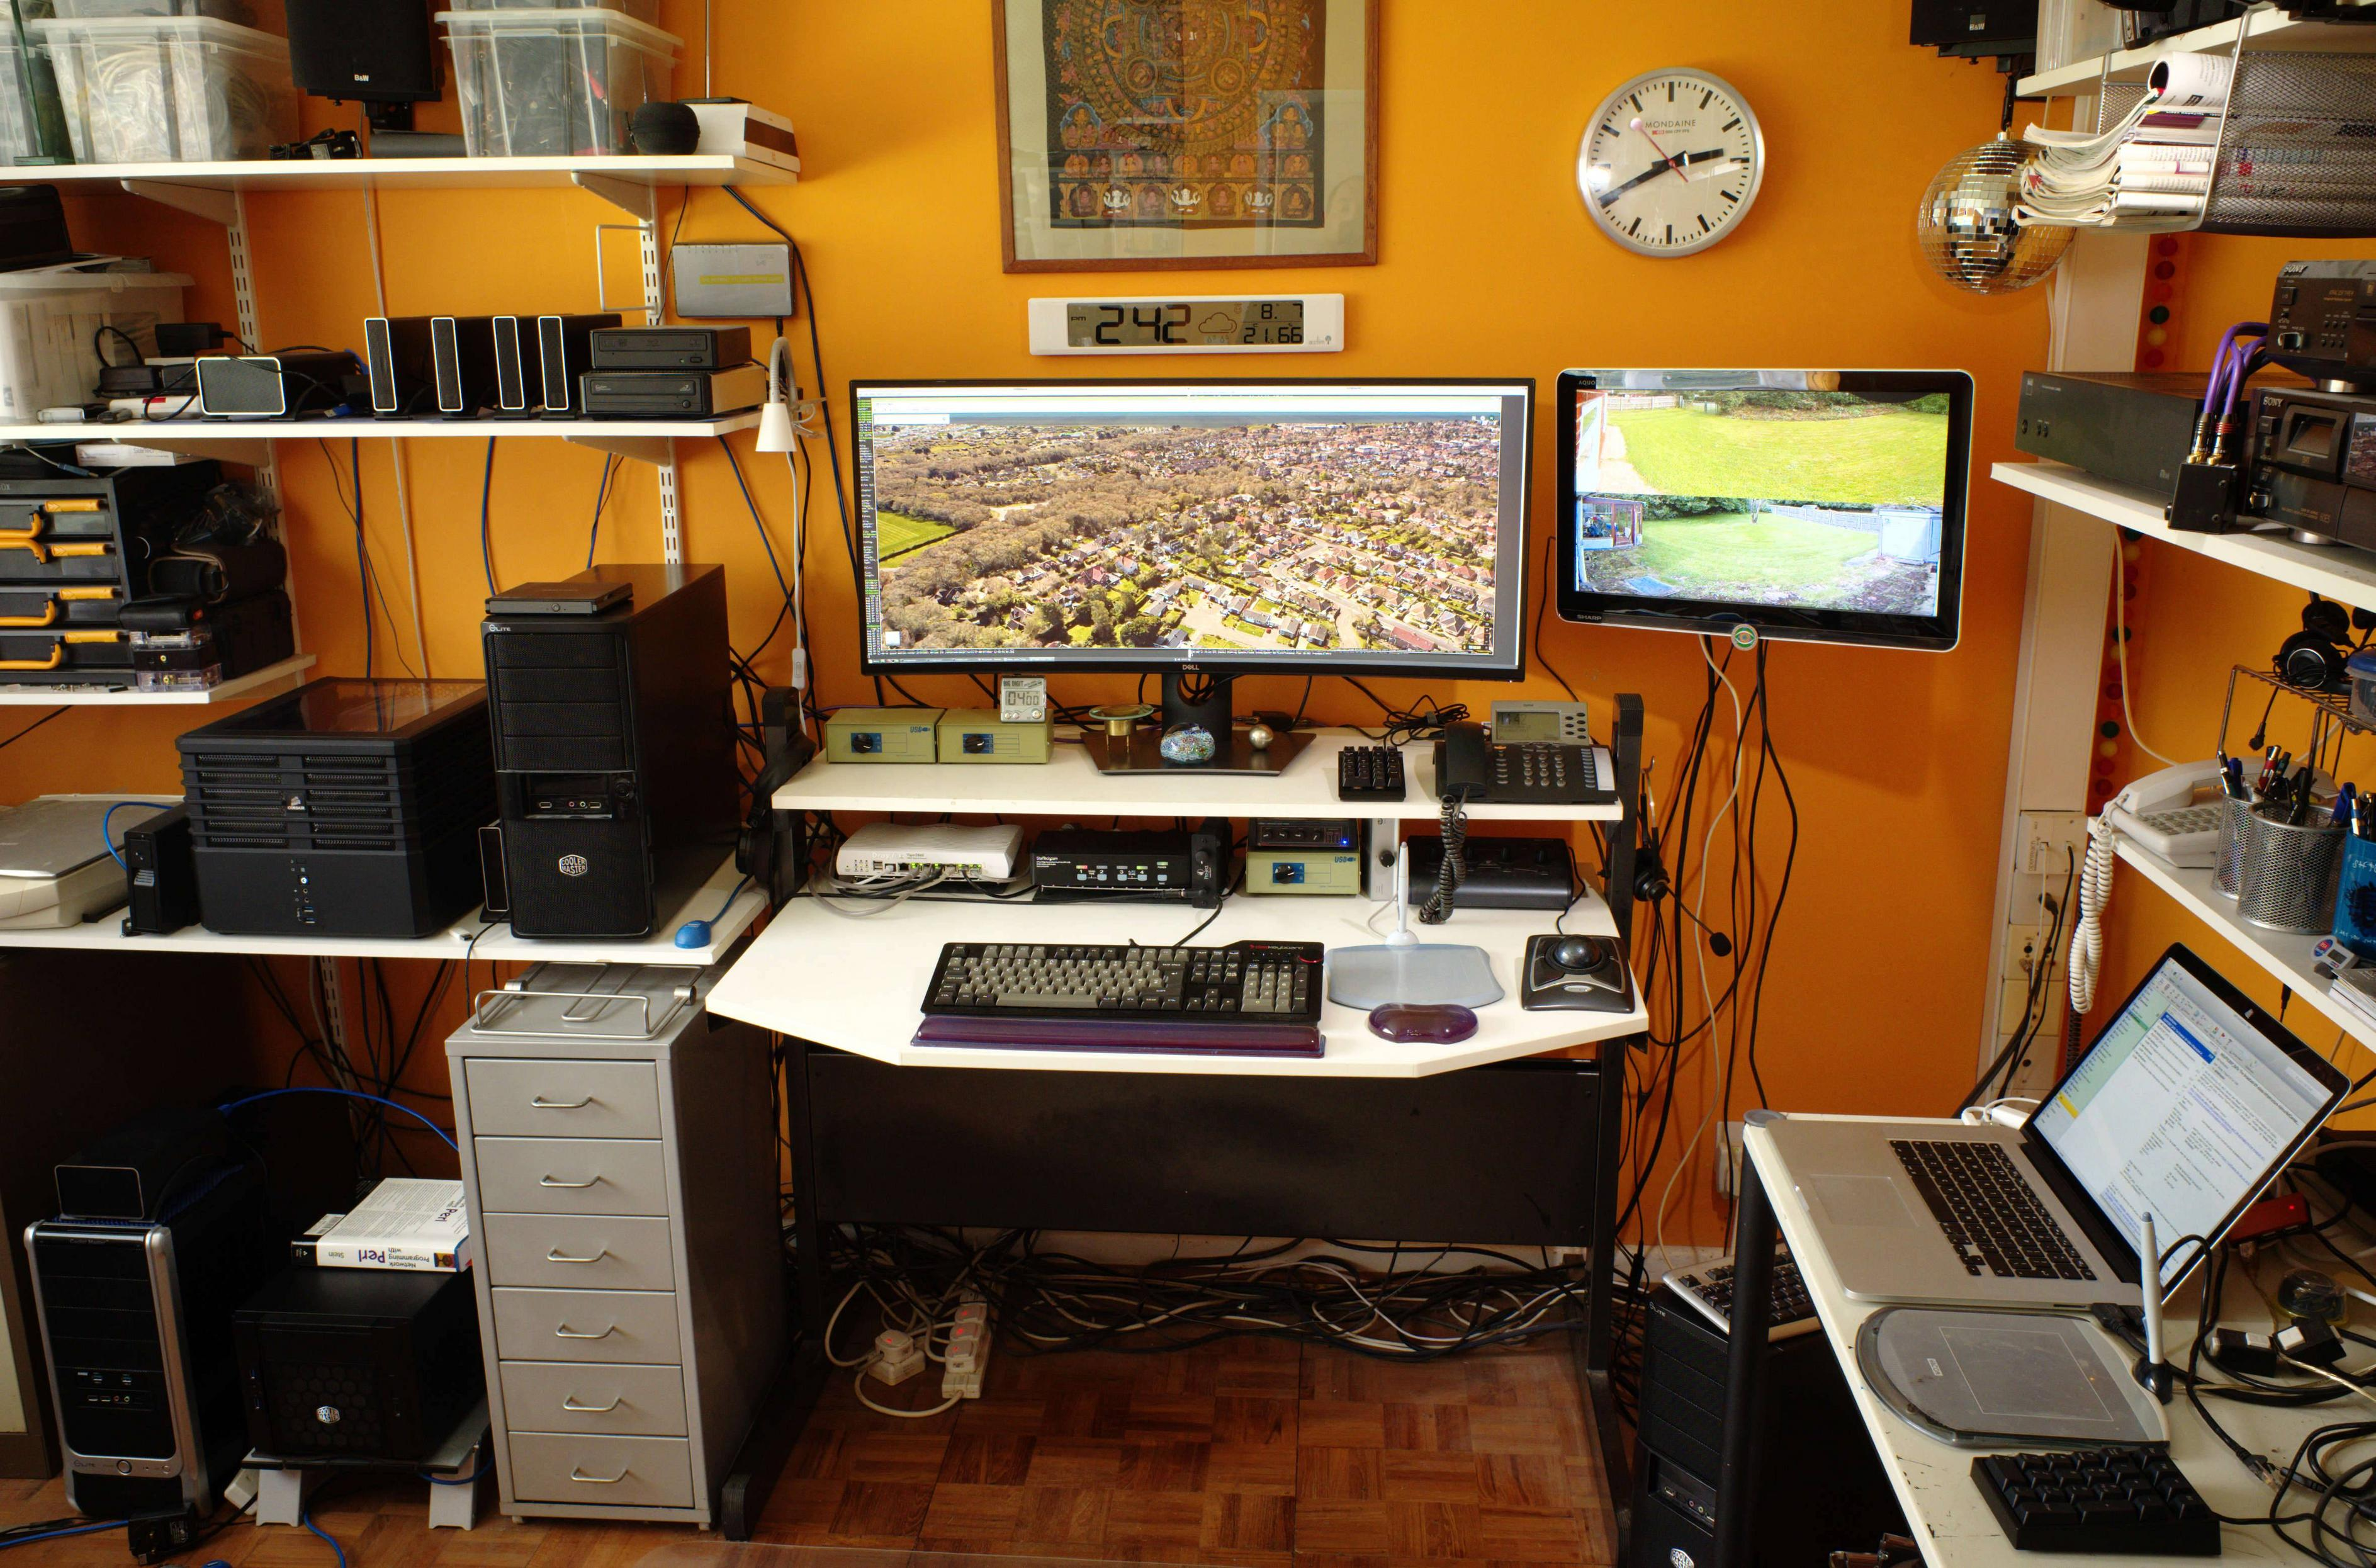Decoration (Clock): (1569, 63, 1769, 266), (1025, 290, 1351, 352)
Decoration (Generic): (1160, 721, 1216, 763), (1246, 719, 1275, 749)
Decoration (Picture): (987, 0, 1384, 278)
Desk (Generic): (716, 691, 1643, 1538), (1727, 1104, 2376, 1568)
External Numpad: (1967, 1442, 2233, 1563), (1337, 745, 1405, 801)
Keyboard (Generic): (917, 943, 1330, 1045)
Laptop (OSX): (1771, 940, 2359, 1305)
Monitor (Landscape): (847, 373, 1529, 684)
Monitor (Laptop): (2003, 940, 2353, 1298)
Mouse (Generic): (1515, 929, 1634, 1013)
Mouse (Magic Trackpad): (1841, 1290, 2178, 1452), (1324, 941, 1505, 1043)
Power Strip: (941, 1263, 1011, 1403)
Router: (836, 819, 1024, 882)
Storage Drawer: (441, 969, 772, 1529)
Telephone: (2066, 735, 2297, 1017), (1414, 702, 1615, 917)
USB Hub: (2227, 1188, 2318, 1256)
